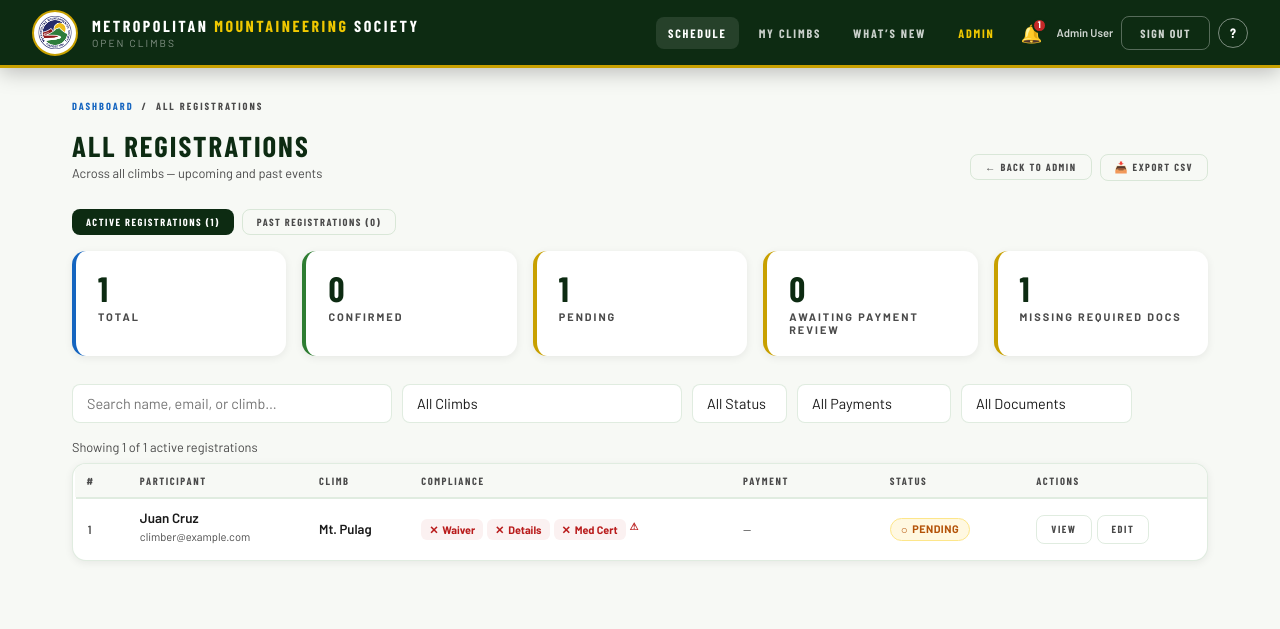
Admin AllRegistrations › shows missing required documents for the registrant's climb
Click the text "Juan Cruz": coordinates (169, 518) left=140, top=510, right=198, bottom=526
(page scrolled)
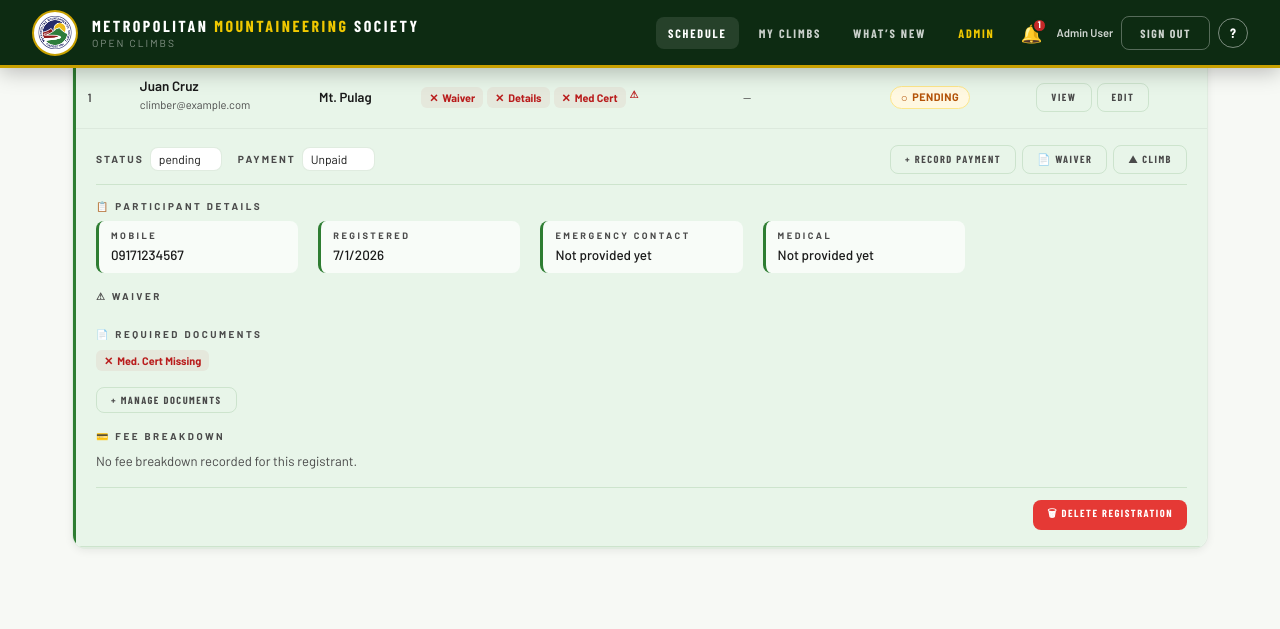
Check: the text "✕ Med. Cert Missing" is shown, box left=96, top=350, right=209, bottom=371
